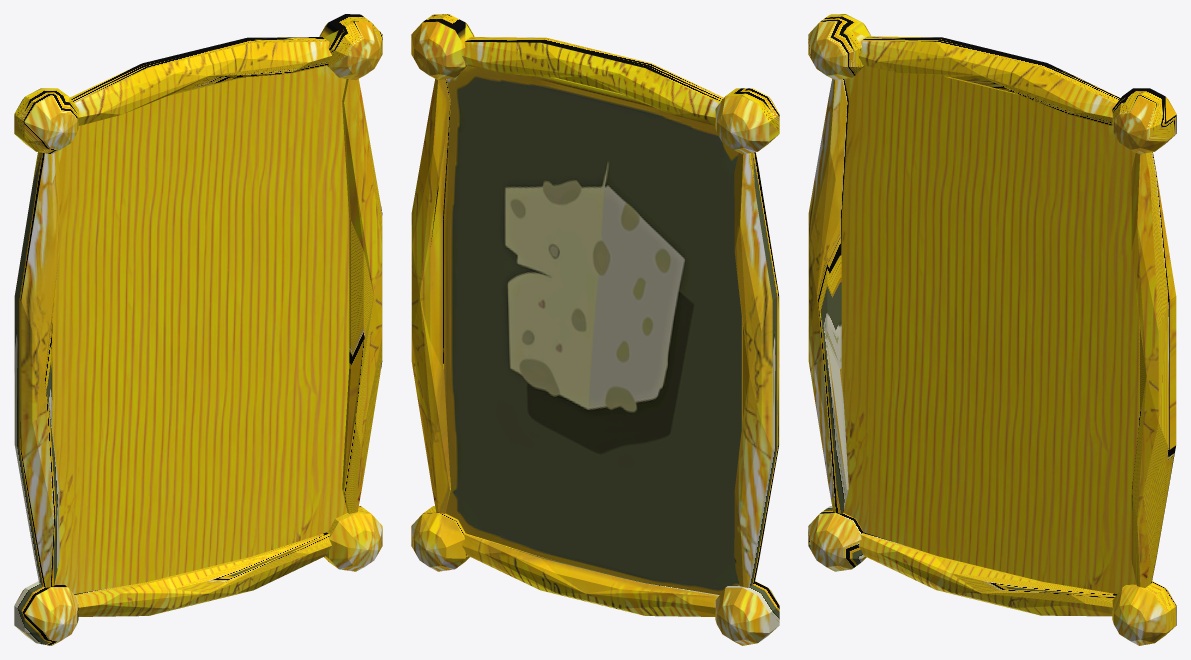
Rendered from Picture.glb.
3 renders of one model, left to right at view 1: azimuth 30°, elevation 25°; view 2: azimuth 150°, elevation 25°; view 3: azimuth 330°, elevation 25°, orthographic.
Parts seen in each view (by area): view 1: Picture; view 2: Picture; view 3: Picture.
Part boxes in pixels (bbox=[...]): Picture: bbox=[14, 14, 382, 645]; Picture: bbox=[411, 14, 779, 645]; Picture: bbox=[808, 14, 1176, 645].
Size of the model in its own units: 140 by 204 by 22.91.
Materials: 1 (1 with a texture image).
